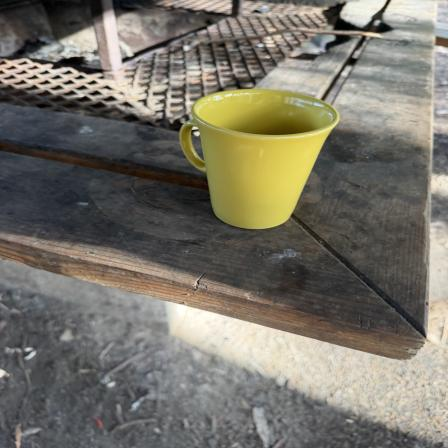yellow_cup: (182, 88, 339, 231)
